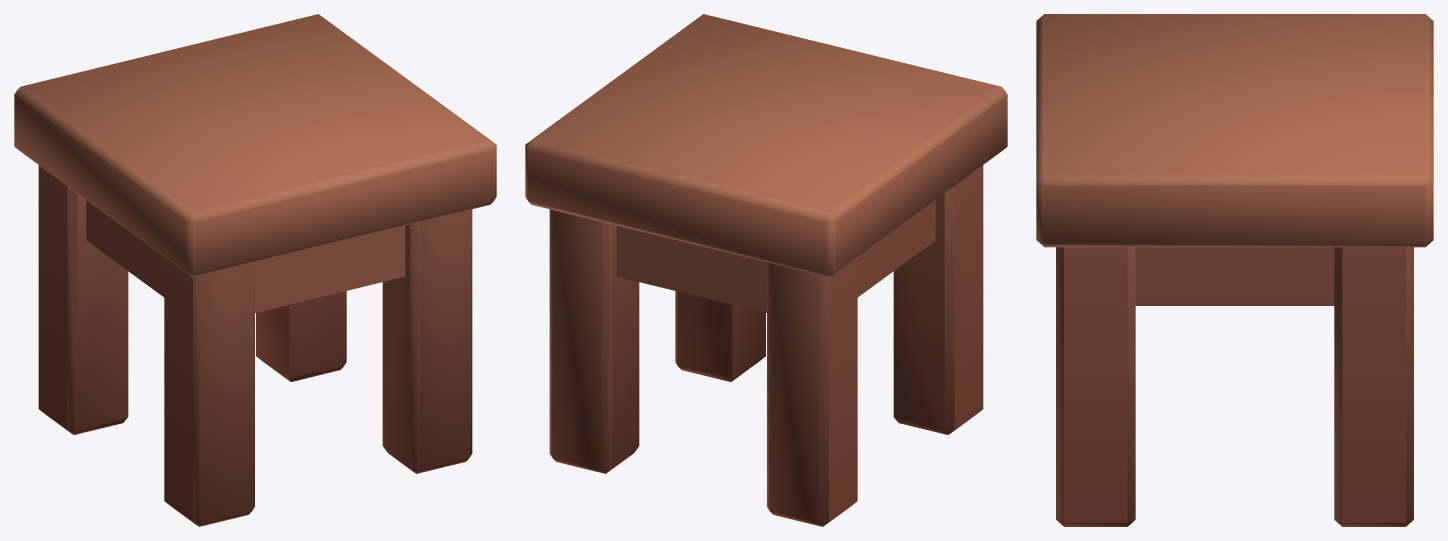
The model's file is kay-mesa-lateral.gltf.
3 renders of one model, left to right at view 1: azimuth 30°, elevation 25°; view 2: azimuth 150°, elevation 25°; view 3: azimuth 270°, elevation 25°, orthographic. The views are drawn at different scales.
Visible parts, largest first — view 1: table_small; view 2: table_small; view 3: table_small.
Boxes of the visible parts, x1,y1,x2,y2 form: table_small: (14,14,496,526); table_small: (525,14,1007,526); table_small: (1036,14,1433,526).
Size of the model in its own units: 0.65 by 0.65 by 0.65.
1 material, 1 textured.
